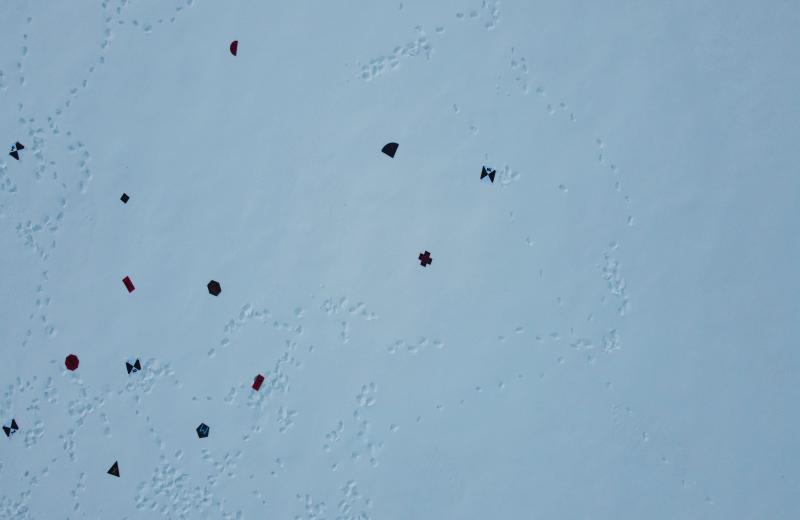Hexagon: (207, 279, 223, 297)
Octagon: (64, 354, 80, 372)
Pentagon: (196, 422, 210, 439)
Rectangle: (122, 275, 136, 293)
